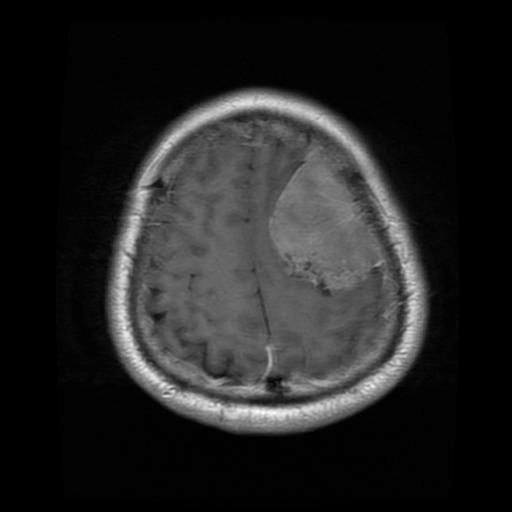Tumour-Meningioma: (255, 139, 417, 319)
